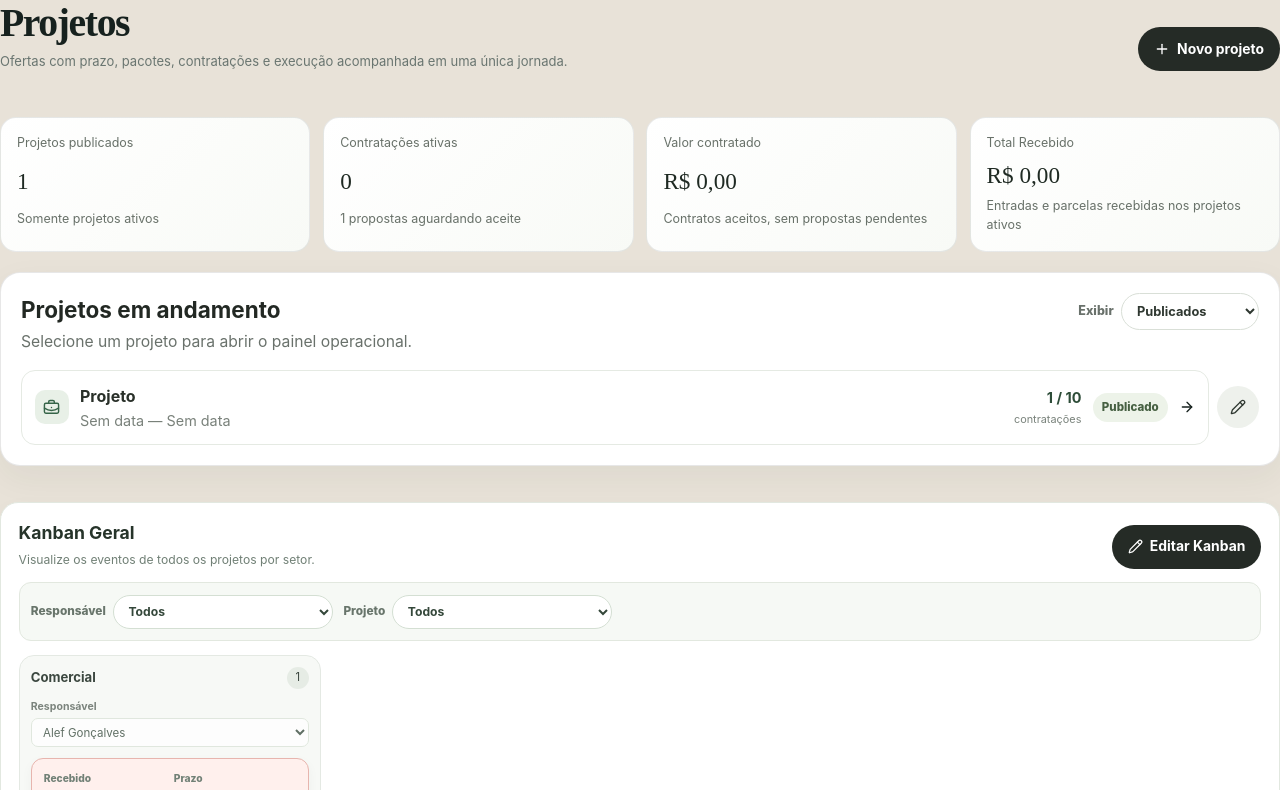
Test: kanban board editing › shows the general kanban with project and responsible filters
The image size is (1280, 790).
Expected: the heading "Kanban Geral" is shown, [19,522,135,543]
Select "Projeto" in the dropdown named "Filtrar Kanban Geral por projeto" at (502, 612), box [392,594,612,629]
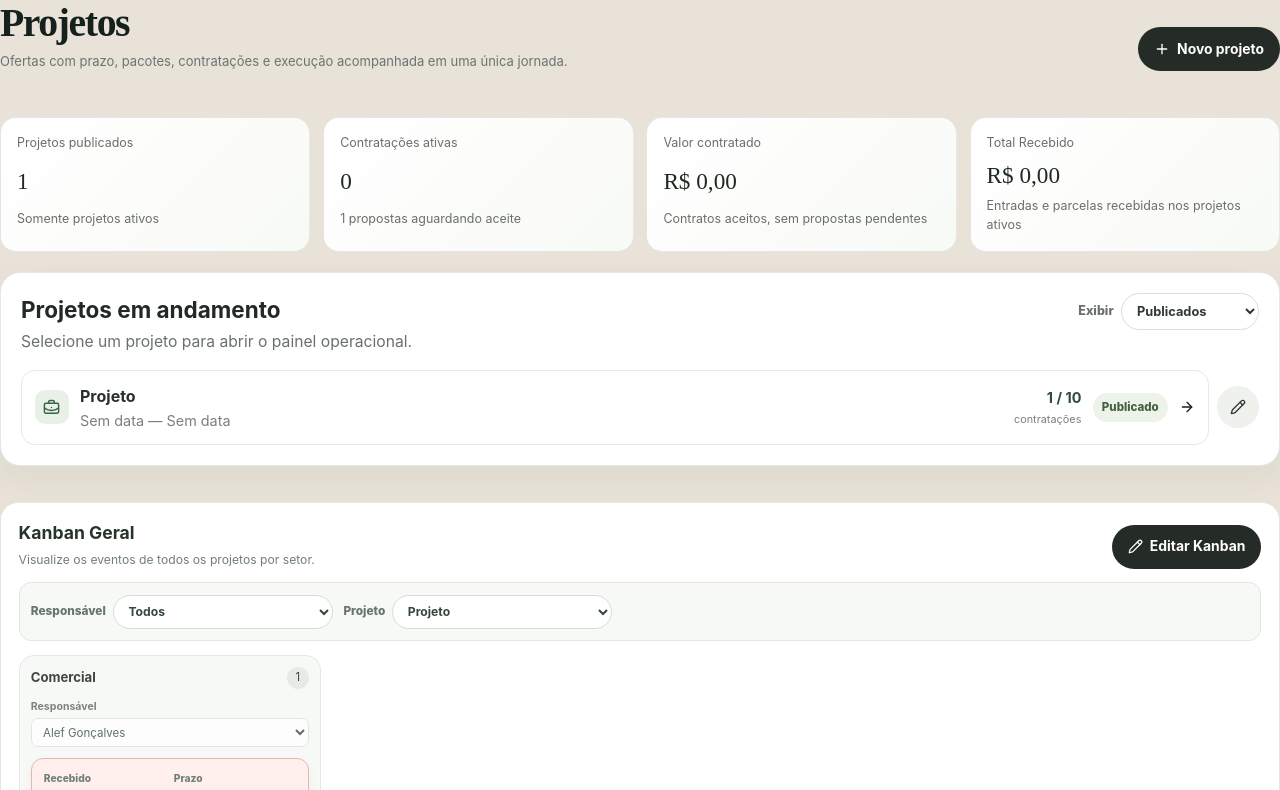
Select "Alef Gonçalves" in the dropdown named "Filtrar Kanban Geral por responsável" at (223, 612), box [113,594,333,629]
(page scrolled)
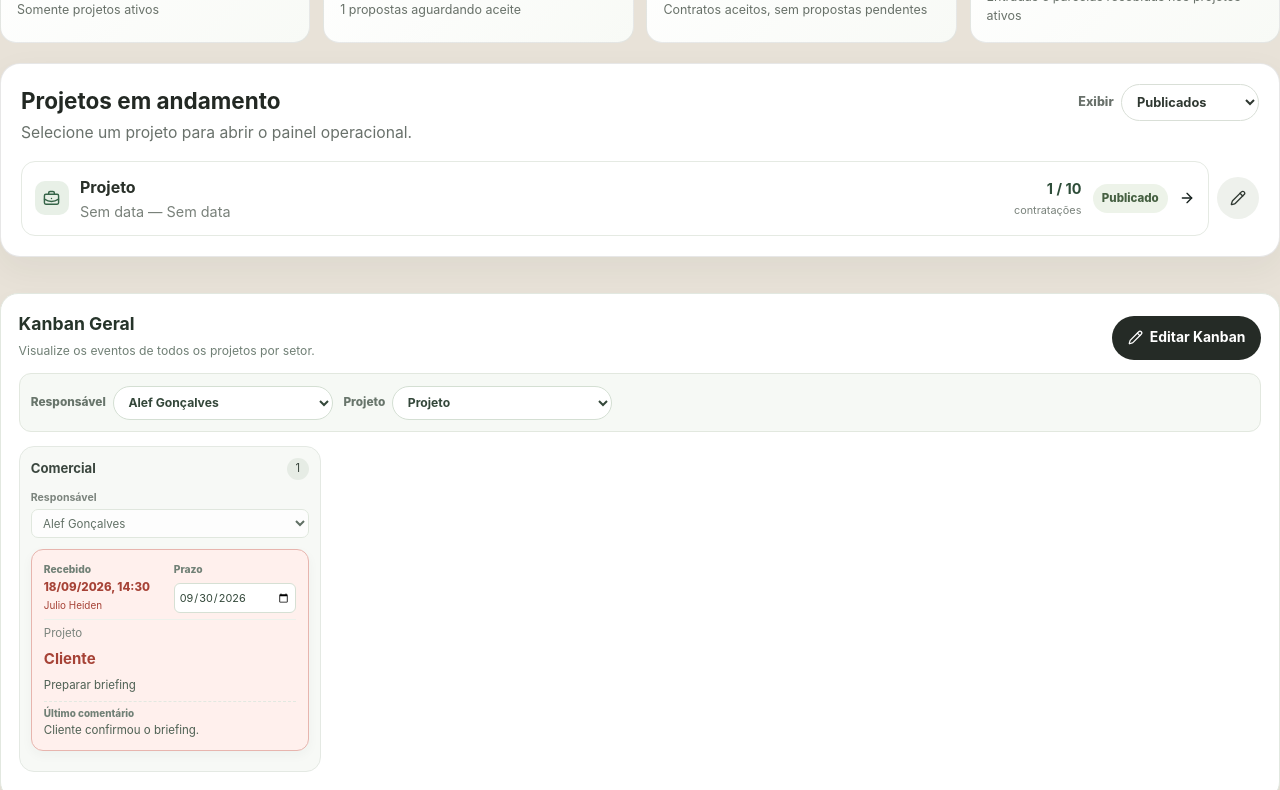
Expected: the text "Cliente" is shown, [44,649,96,668]
Expected: the text "Recebido" is shown, [44,563,91,575]
Type "2026-10-01" into the date field named "Data prazo de Cliente" at (235, 598), box [174,583,296,613]
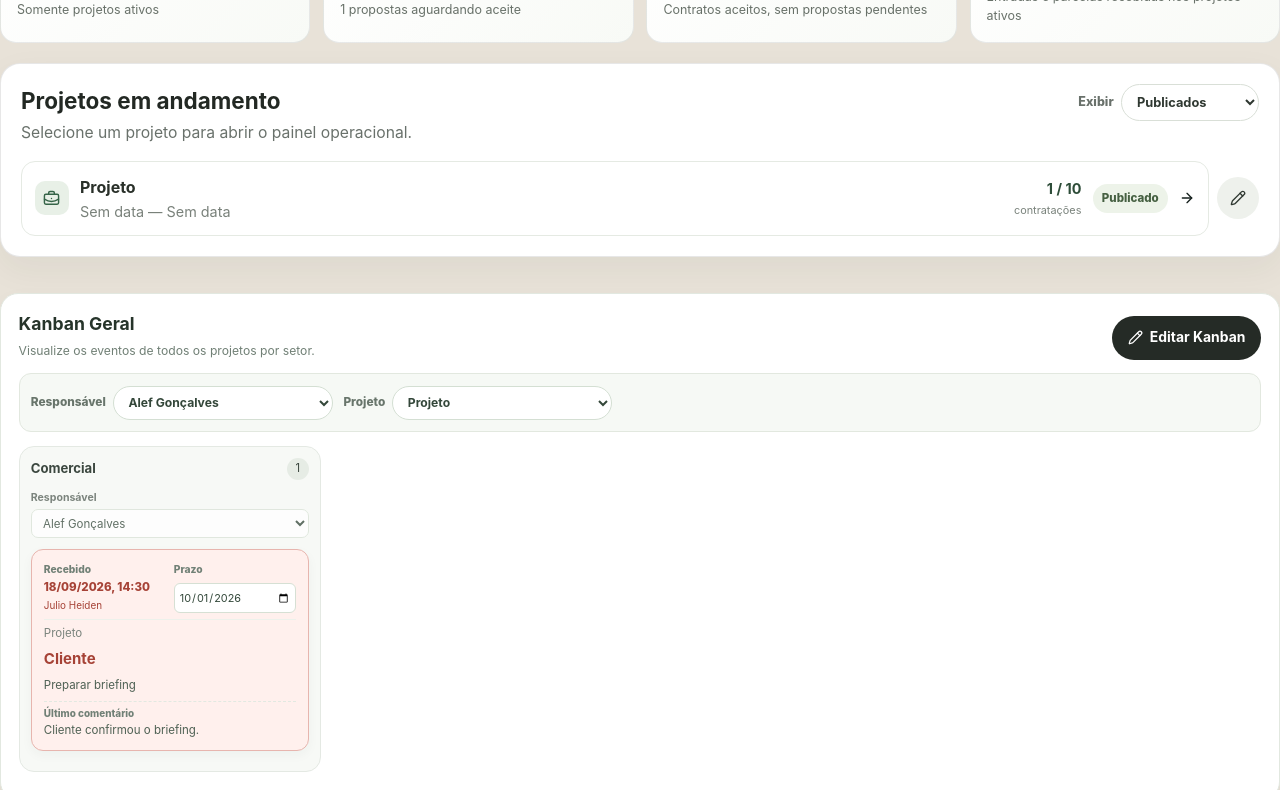
Expected: the text "Cliente" is shown, [44,649,96,668]
Double-click the text "Cliente" at (170, 650), box [31,549,309,751]
(page scrolled)
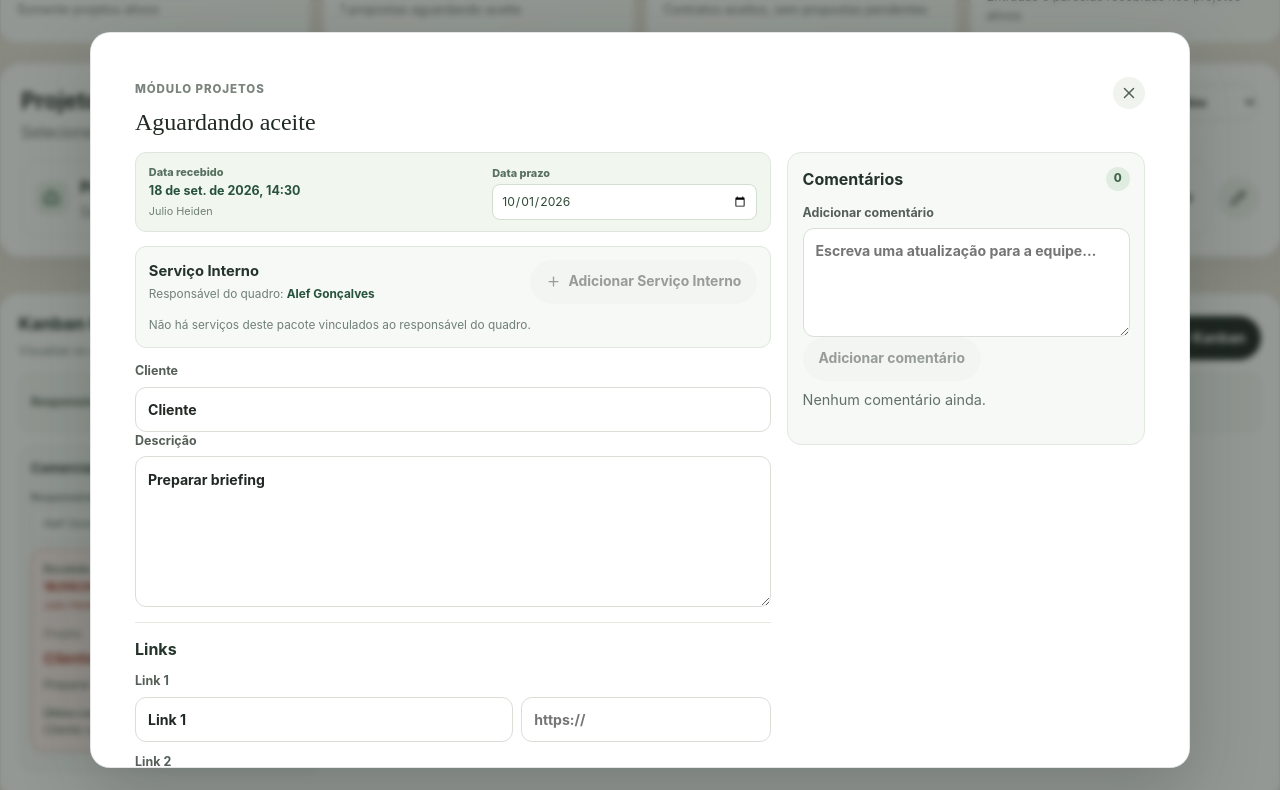
Now the dialog "Aguardando aceite" is shown
